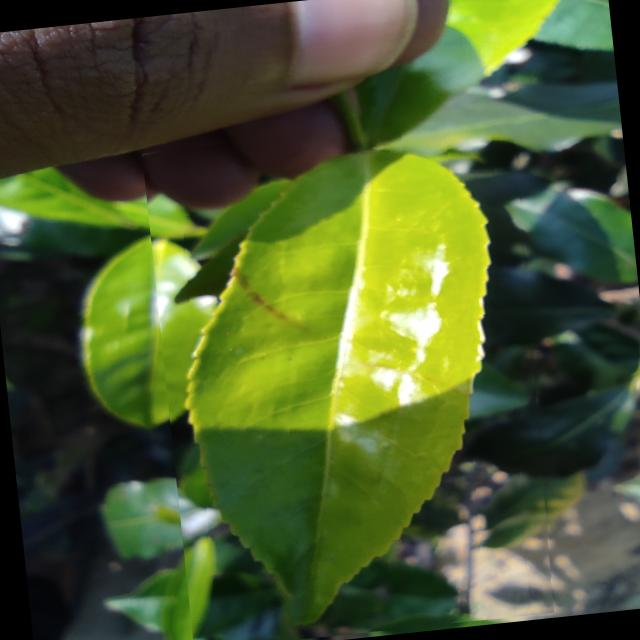Category C(4-7 days): (140, 106, 564, 640)
